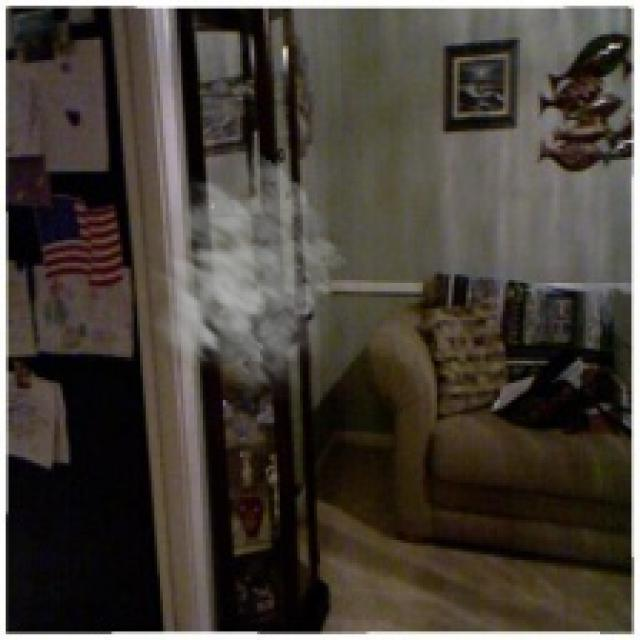Smoke: (122, 143, 348, 406)
